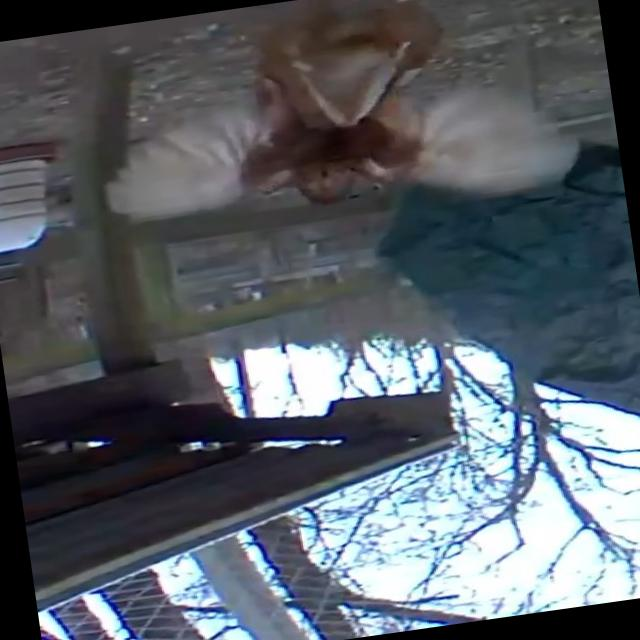wing flap: (71, 0, 587, 274)
